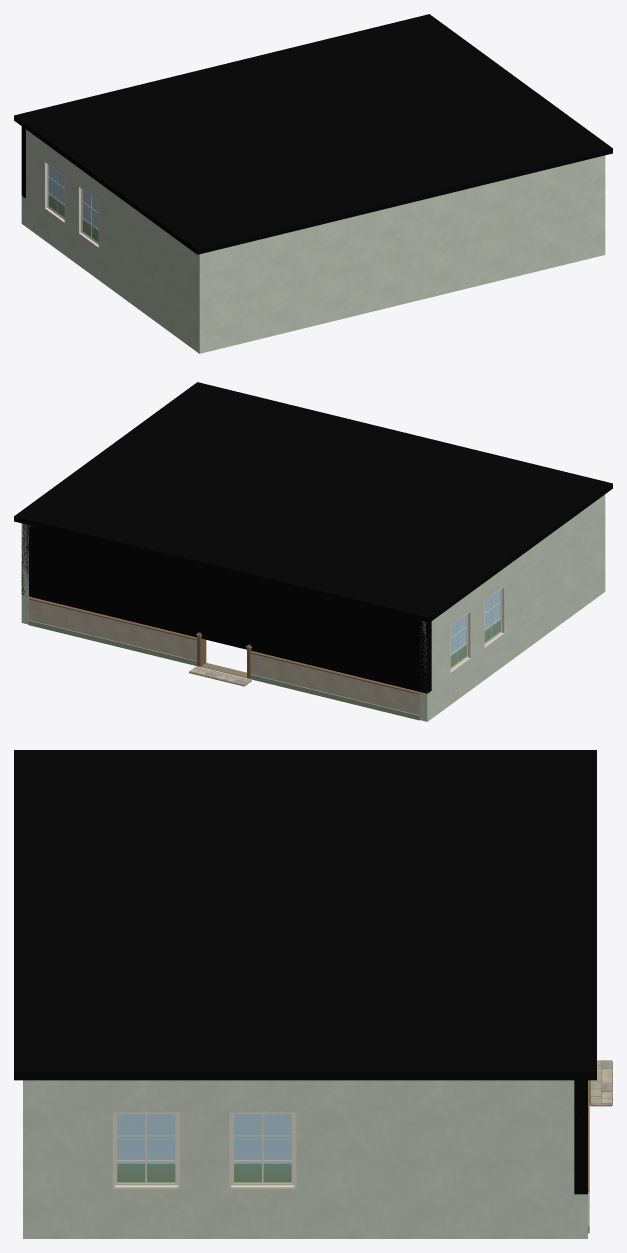
3 views of the same model, one above another, from view 1: azimuth 30°, elevation 25°; view 2: azimuth 150°, elevation 25°; view 3: azimuth 270°, elevation 25° (orthographic). The views are drawn at different scales.
Visible parts, largest first — view 1: hq_caster, hq_shell, hq_windows; view 2: hq_caster, hq_shell, hq_windows; view 3: hq_caster, hq_shell, hq_windows.
Part boxes in pixels (<box>): hq_caster: <box>14,14,612,254</box>; hq_shell: <box>21,129,605,353</box>; hq_windows: <box>48,165,98,242</box>; hq_caster: <box>14,382,612,693</box>; hq_shell: <box>21,494,605,721</box>; hq_windows: <box>450,590,500,667</box>; hq_caster: <box>14,750,596,1194</box>; hq_shell: <box>23,1060,612,1238</box>; hq_windows: <box>117,1114,291,1182</box>.
Bounding box in the file's own units: 17 × 4.28 × 13.36.
Materials: 14 (4 with a texture image).
